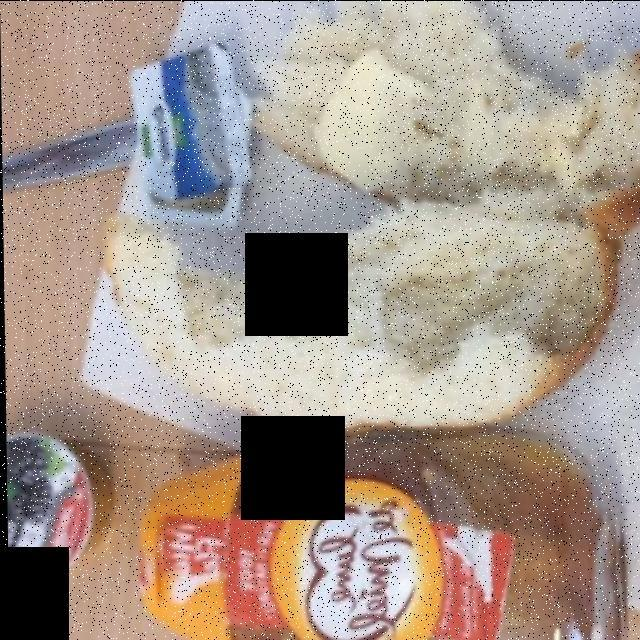bread: (115, 14, 620, 424)
